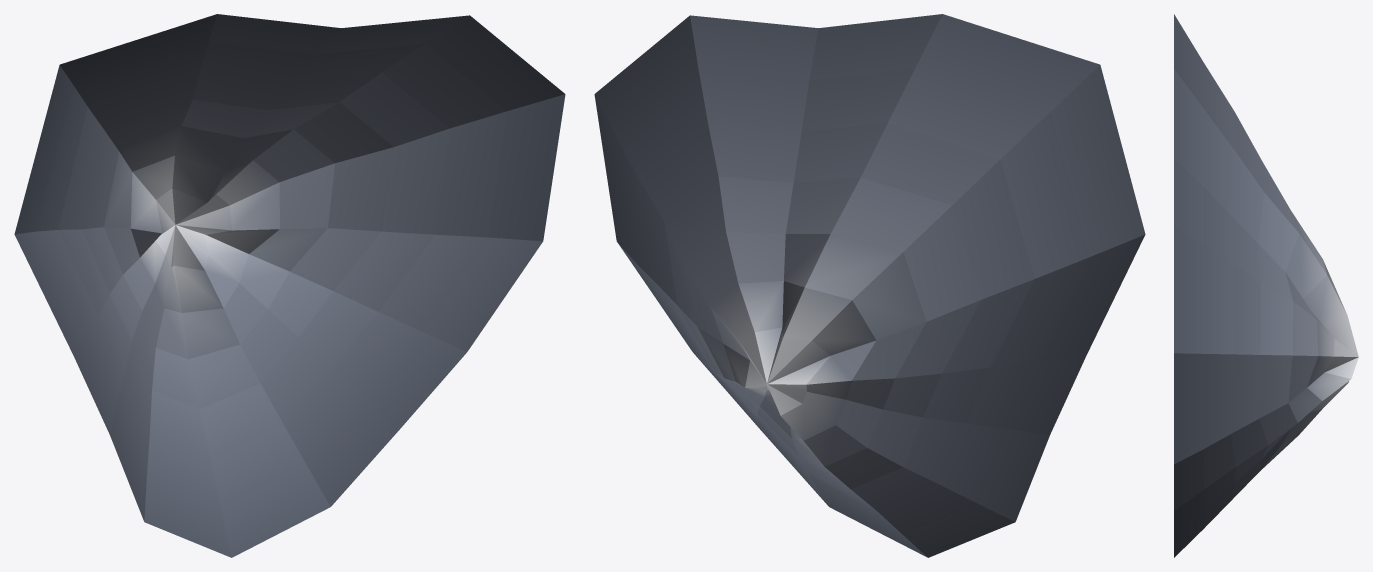
Rendered from mtn_ridge_b.glb.
The picture shows the model from 3 angles, left to right: view 1: azimuth 30°, elevation 25°; view 2: azimuth 150°, elevation 25°; view 3: azimuth 270°, elevation 25°; orthographic projection. The views are drawn at different scales.
Visible parts, largest first — view 1: mtn_ridge_b; view 2: mtn_ridge_b; view 3: mtn_ridge_b.
Boxes of the visible parts, x1,y1,x2,y2 form: mtn_ridge_b: (14, 14, 565, 557); mtn_ridge_b: (594, 14, 1145, 557); mtn_ridge_b: (1174, 14, 1358, 557).
Size of the model in its own units: 2.86 by 2.72 by 0.98.
